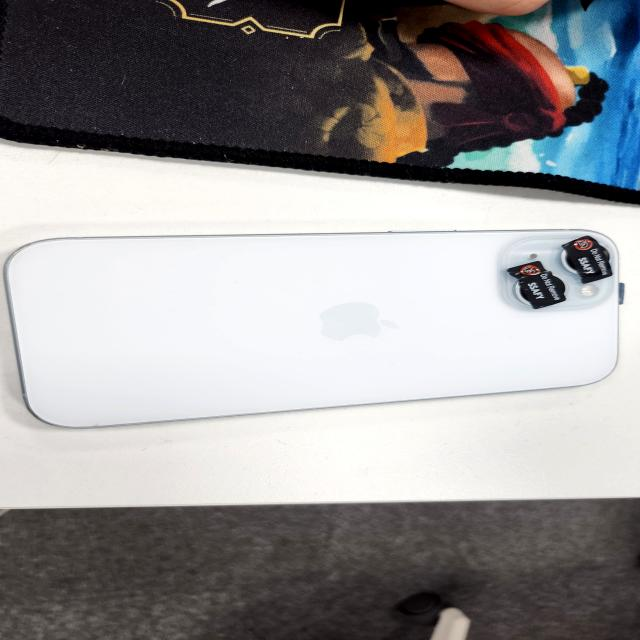phone: (6, 228, 620, 429)
sticker: (509, 263, 566, 308), (562, 236, 614, 283)
